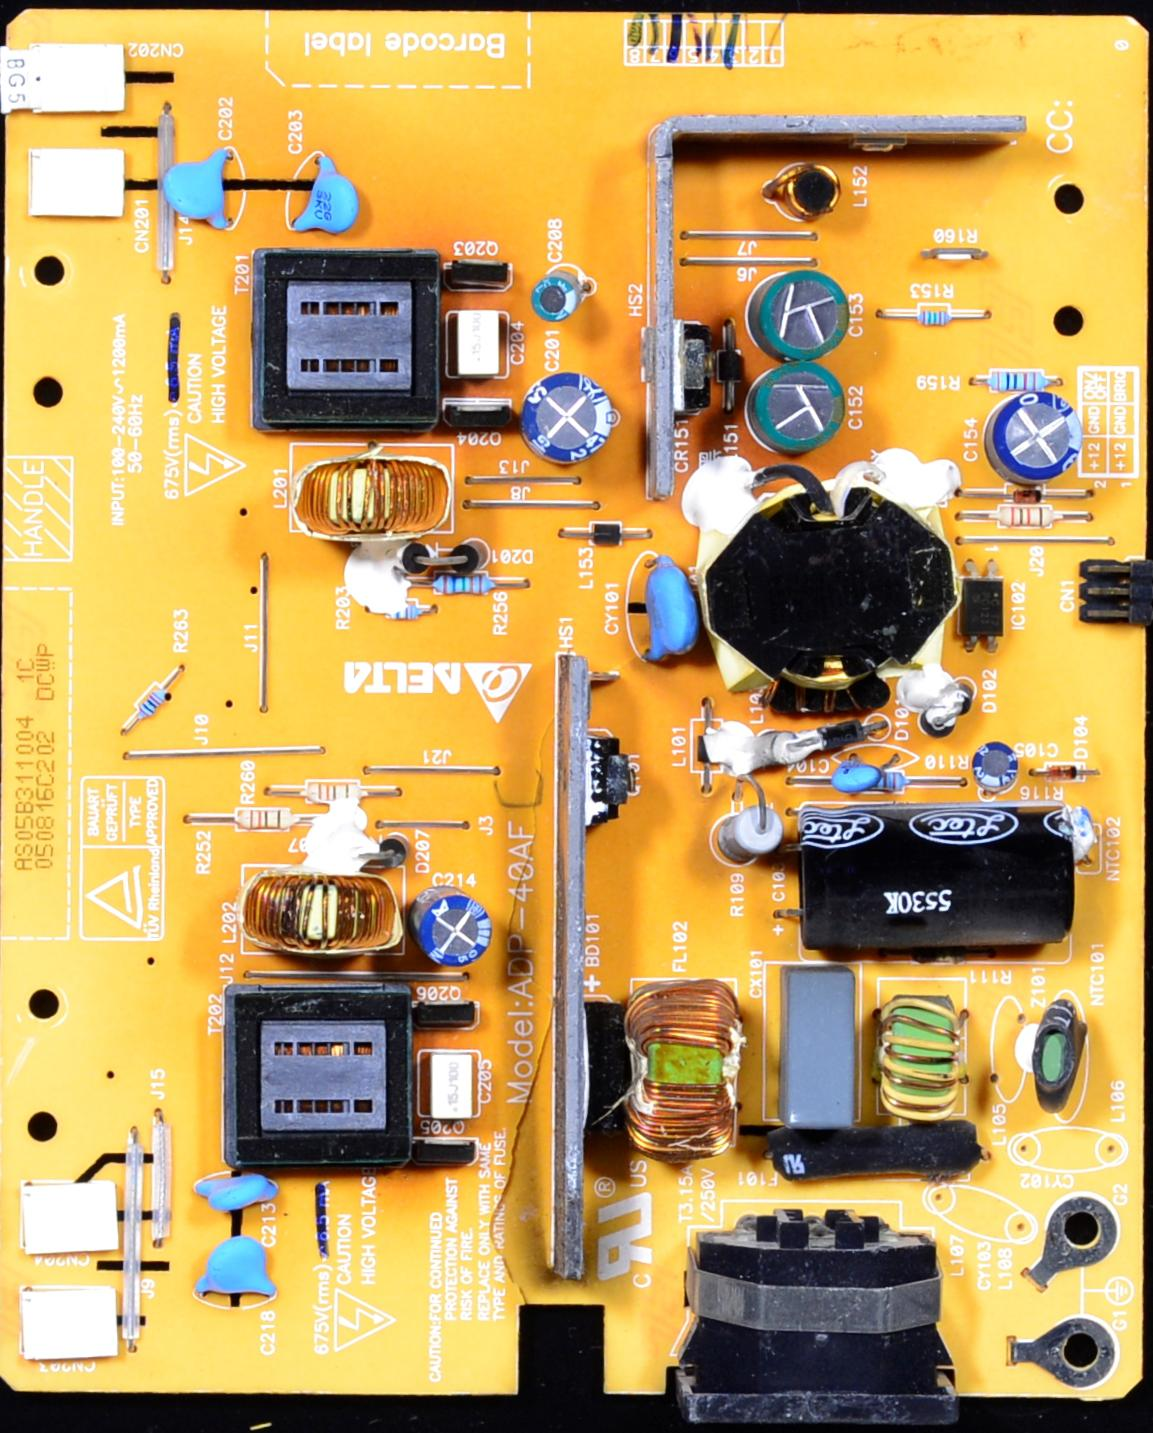Capacitor Jumper: (800, 801, 1077, 958), (749, 360, 849, 455), (982, 396, 1085, 486), (758, 268, 853, 359), (525, 373, 620, 462), (194, 1228, 281, 1307), (411, 882, 491, 965), (162, 148, 241, 232), (638, 558, 699, 665), (292, 160, 361, 235), (418, 1048, 481, 1127), (192, 1166, 278, 1215), (969, 739, 1024, 791), (532, 268, 586, 319), (834, 754, 882, 794)
Resistor Jumper: (712, 791, 795, 879), (986, 491, 1066, 535), (432, 561, 509, 606), (234, 798, 300, 840), (304, 771, 369, 812), (982, 365, 1062, 398), (826, 771, 911, 801), (902, 296, 967, 333), (129, 682, 178, 722), (374, 601, 436, 627)
Transistor: (407, 989, 487, 1035), (446, 249, 511, 296), (407, 1137, 481, 1173)
